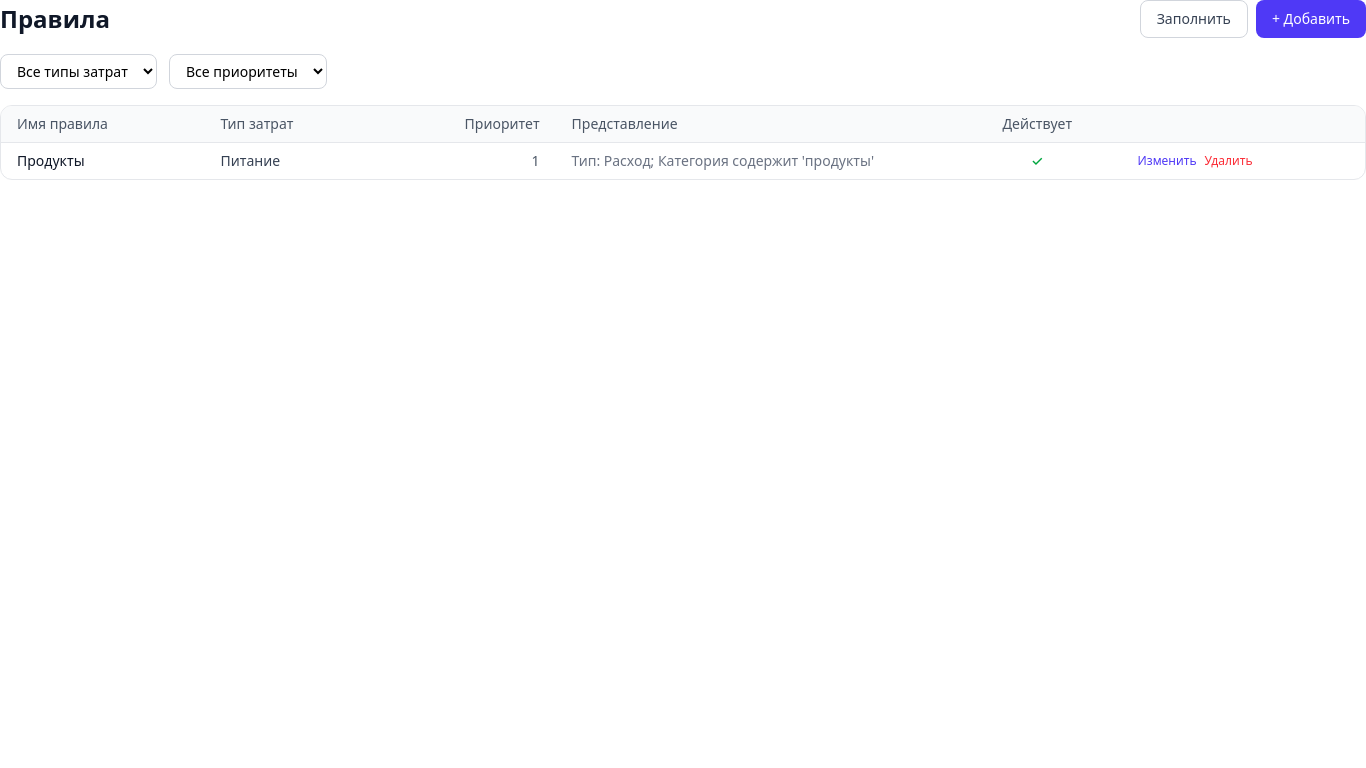
Test: Rules page › opens RuleEditModal in create mode when "+ Добавить" is clicked
Click the button "+ Добавить" at (1311, 19), box [1256, 0, 1365, 38]
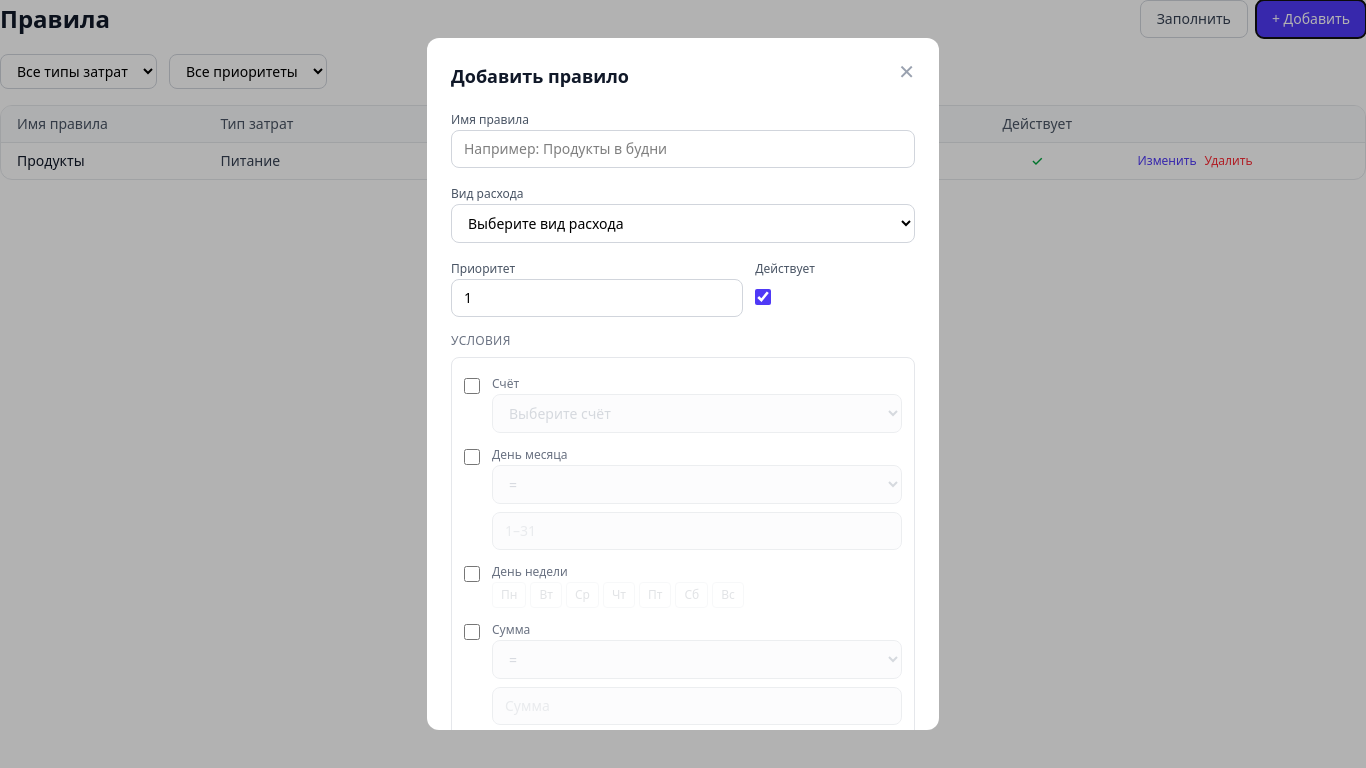
Expected: the heading "Добавить правило" is shown, [451, 62, 629, 90]
